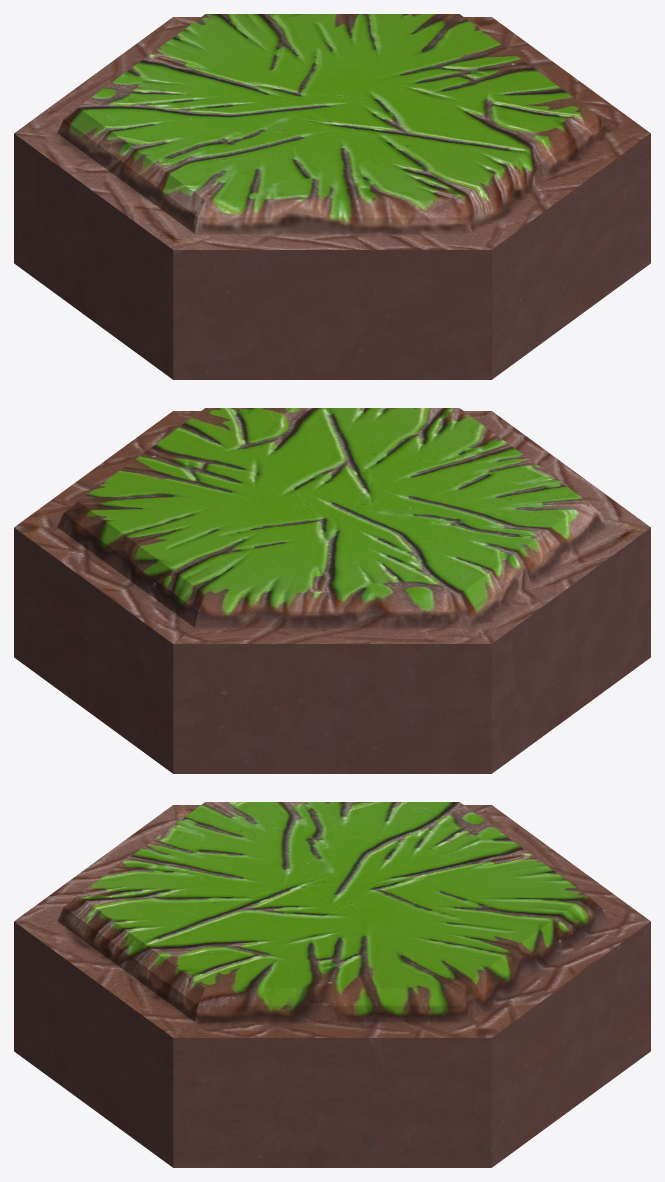
File: GrassTile.dae
The picture shows the model from 3 angles, top to bottom: view 1: azimuth 30°, elevation 25°; view 2: azimuth 150°, elevation 25°; view 3: azimuth 270°, elevation 25°; orthographic projection.
Parts seen in each view (by area): view 1: PolyLowRes; view 2: PolyLowRes; view 3: PolyLowRes.
Boxes of the visible parts, x1,y1,x2,y2 form: PolyLowRes: (14,14,650,379); PolyLowRes: (14,408,650,773); PolyLowRes: (14,802,650,1167).
Bounding box in the file's own units: 1.73 × 2 × 0.5411.
Materials: 1 (1 with a texture image).
